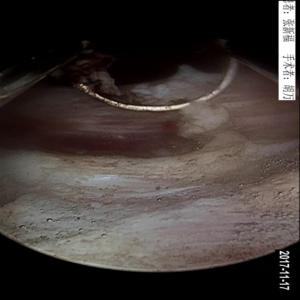film: (12, 84, 288, 148)
